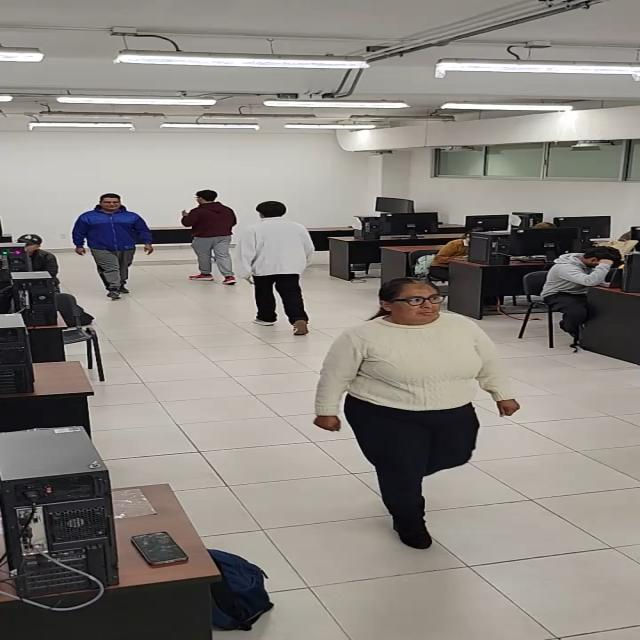Persona: (318, 274, 519, 548), (233, 196, 318, 337), (73, 189, 153, 303), (178, 187, 238, 290)
